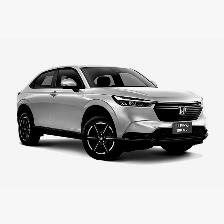NON-EV: (18, 65, 209, 162)
